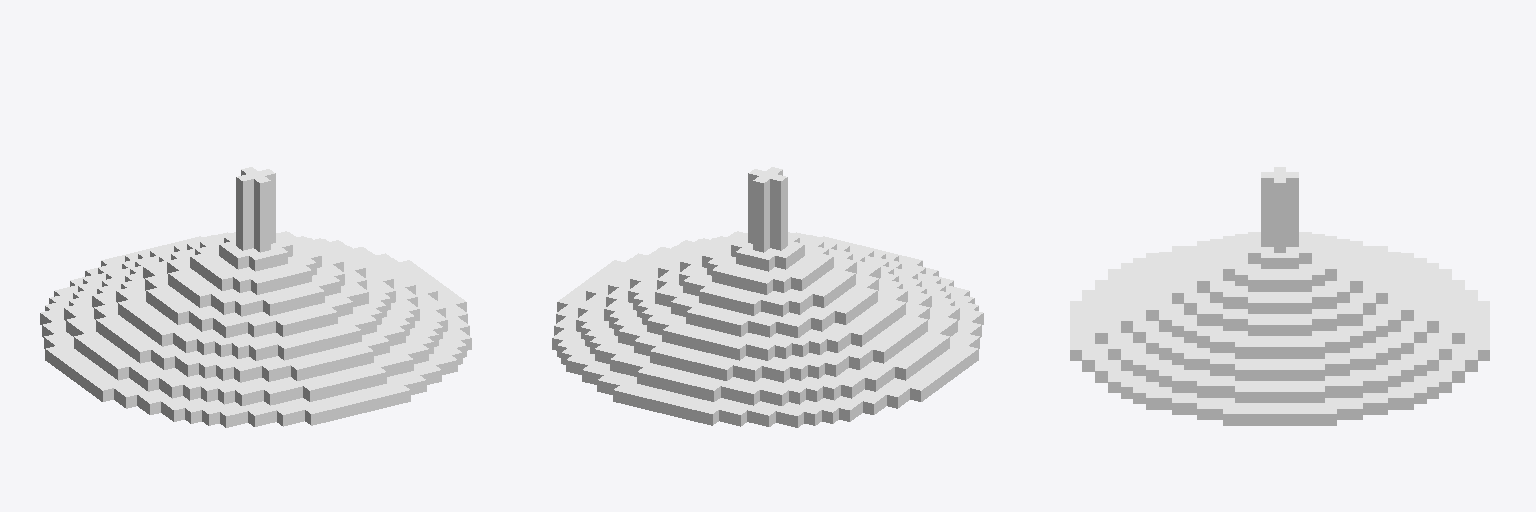
The model's file is TreeStatue.obj.
3 views of the same model, side by side, from view 1: azimuth 30°, elevation 25°; view 2: azimuth 150°, elevation 25°; view 3: azimuth 270°, elevation 25° (orthographic).
Visible parts, largest first — view 1: object 1; view 2: object 1; view 3: object 1.
Boxes of the visible parts, x1=… form: object 1: x1=40, y1=167, x2=471, y2=427; object 1: x1=552, y1=167, x2=983, y2=427; object 1: x1=1070, y1=167, x2=1489, y2=425.
Bounding box in the file's own units: 3.3 × 1.4 × 3.3.